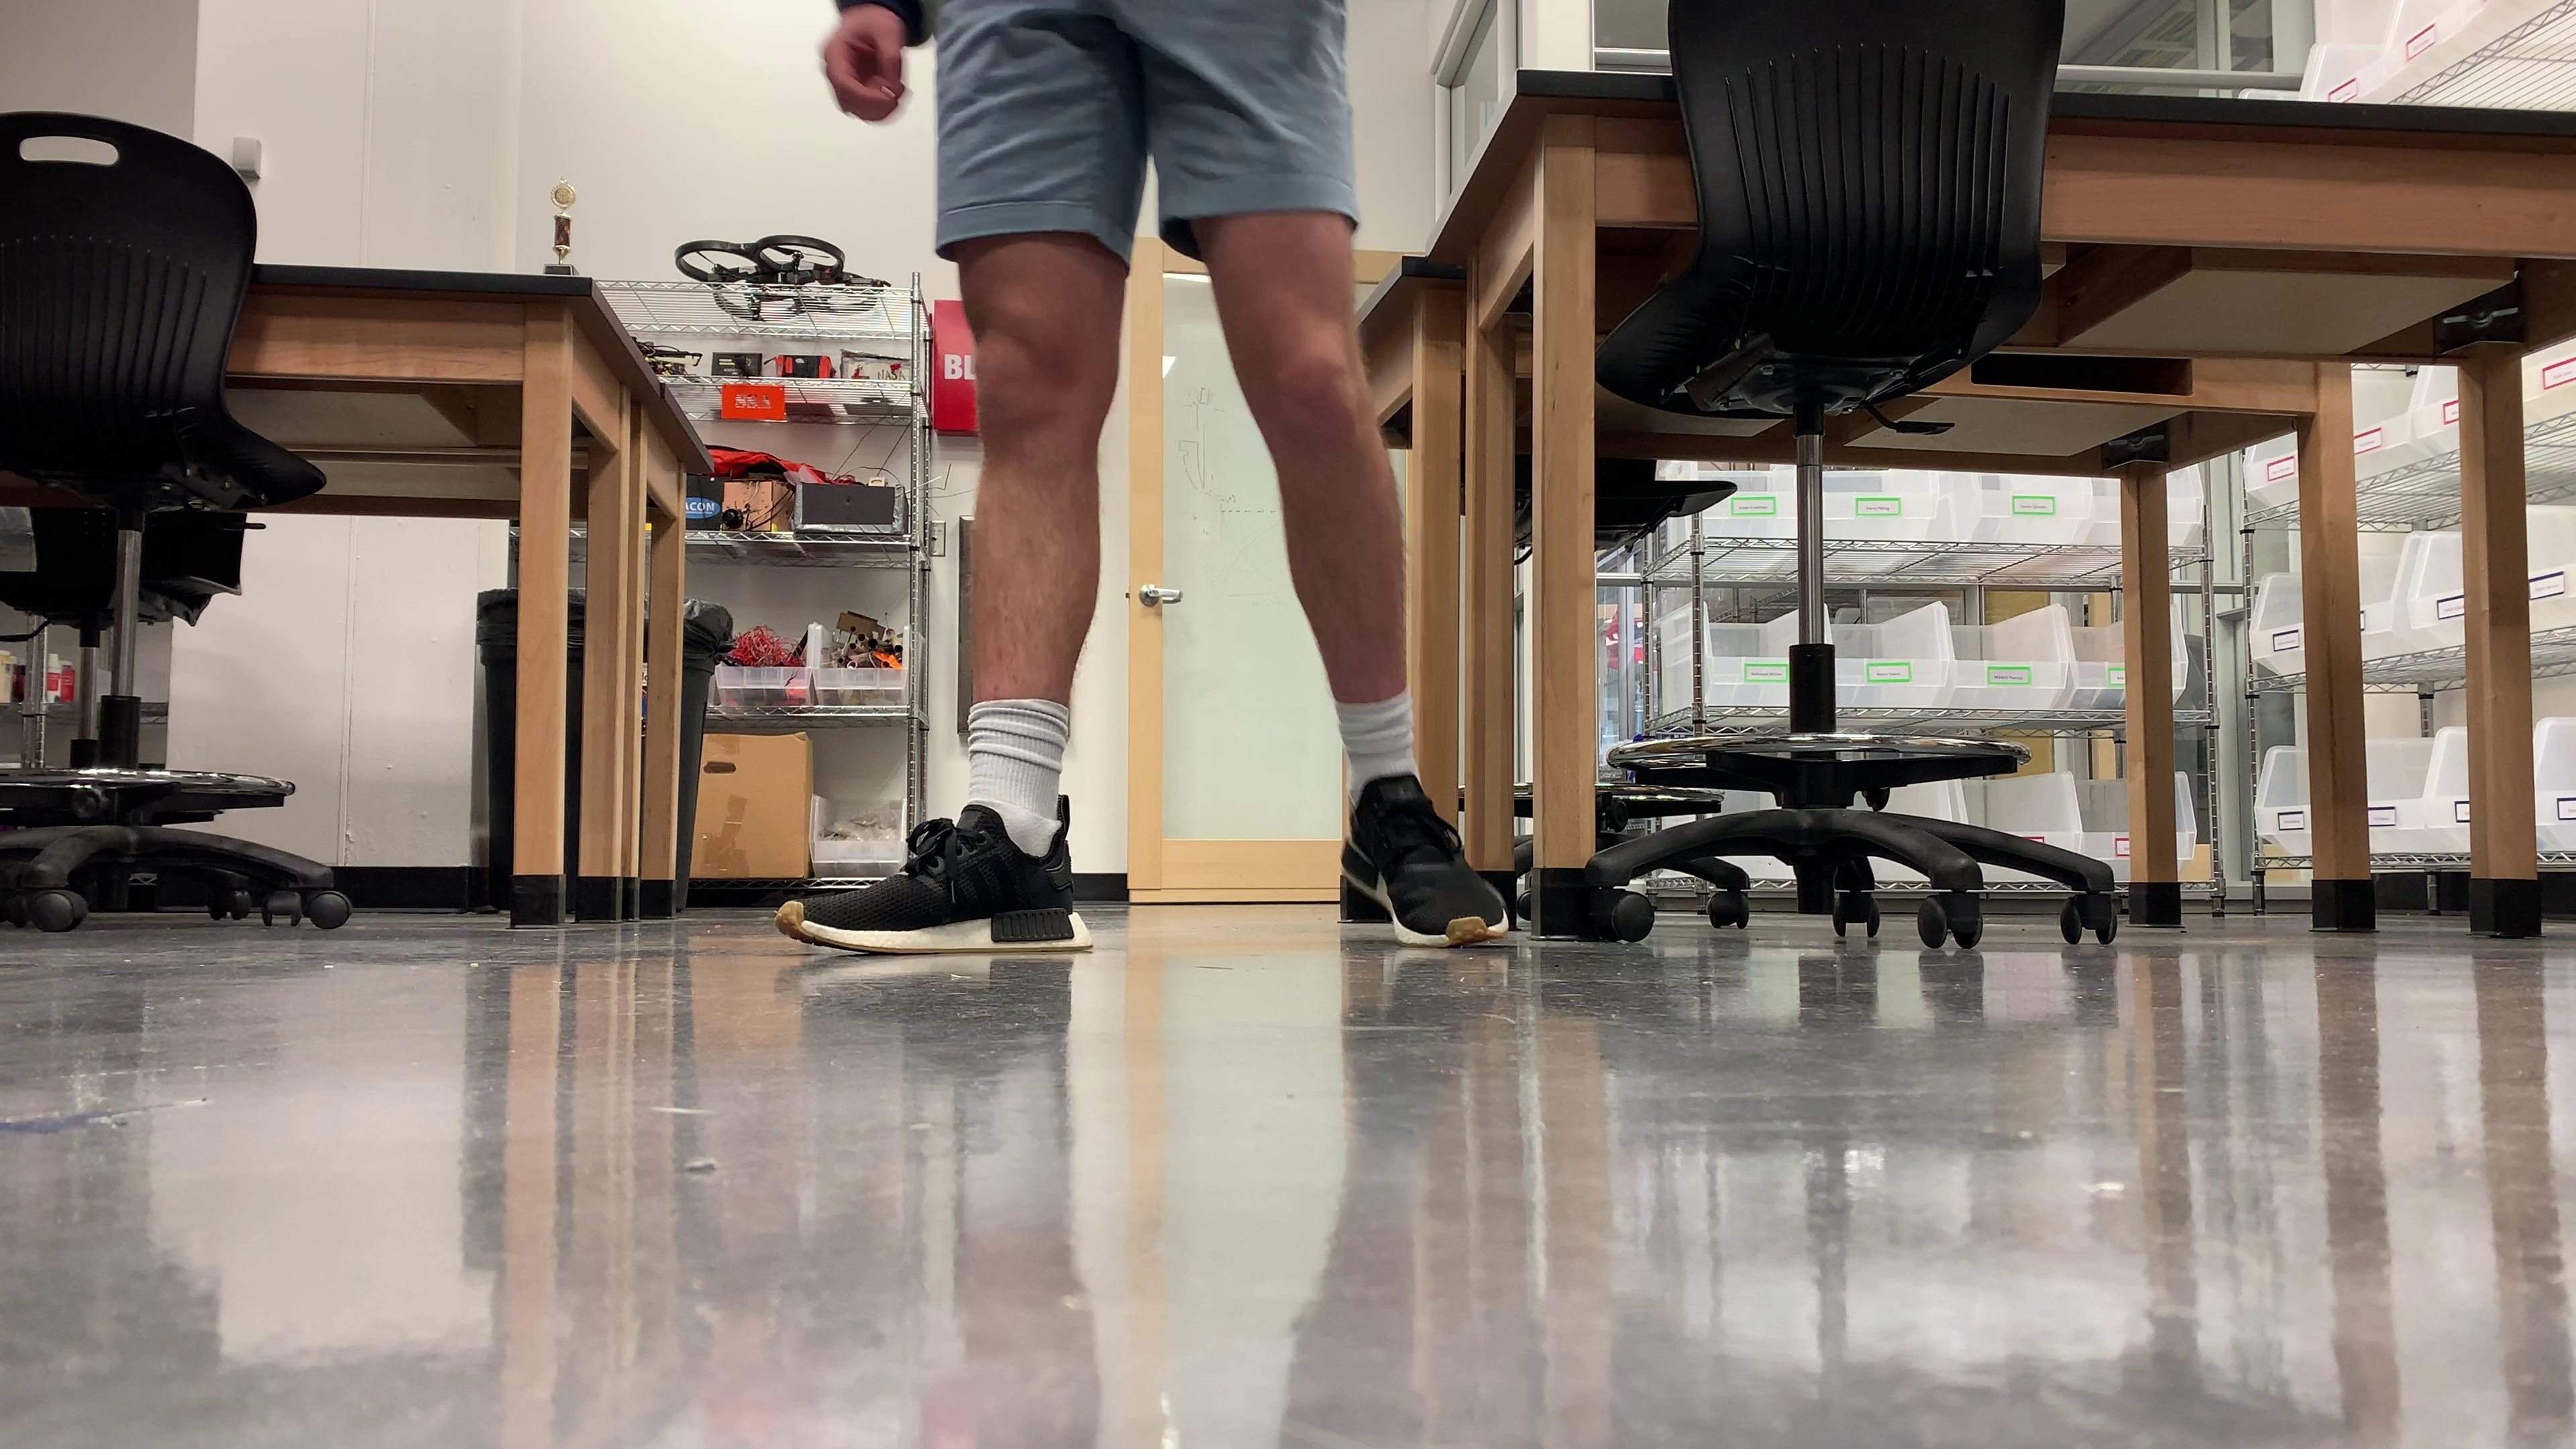shoe: (777, 796, 1088, 952), (1341, 775, 1509, 948)
